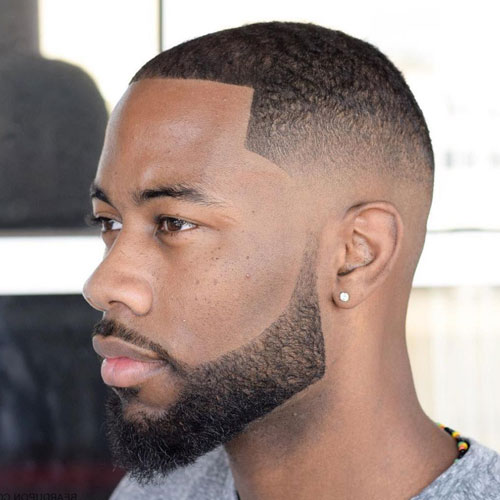bare: (89, 244, 303, 465)
